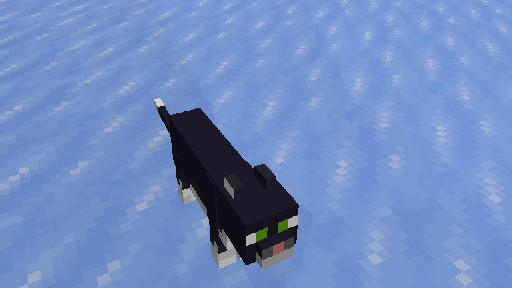cat: (153, 97, 299, 269)
